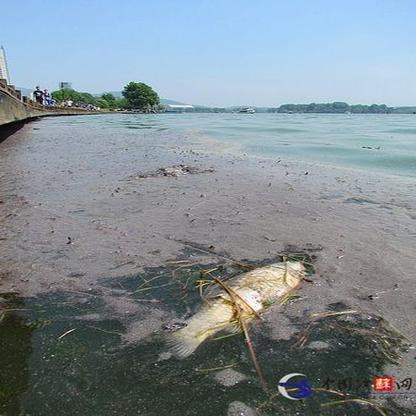deceased fish: (151, 256, 309, 358)
